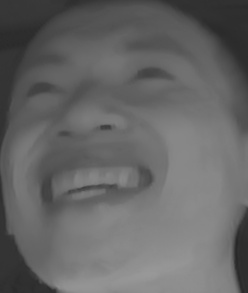eye: (125, 63, 185, 88), (23, 79, 73, 103)
mouth: (24, 148, 157, 217)
